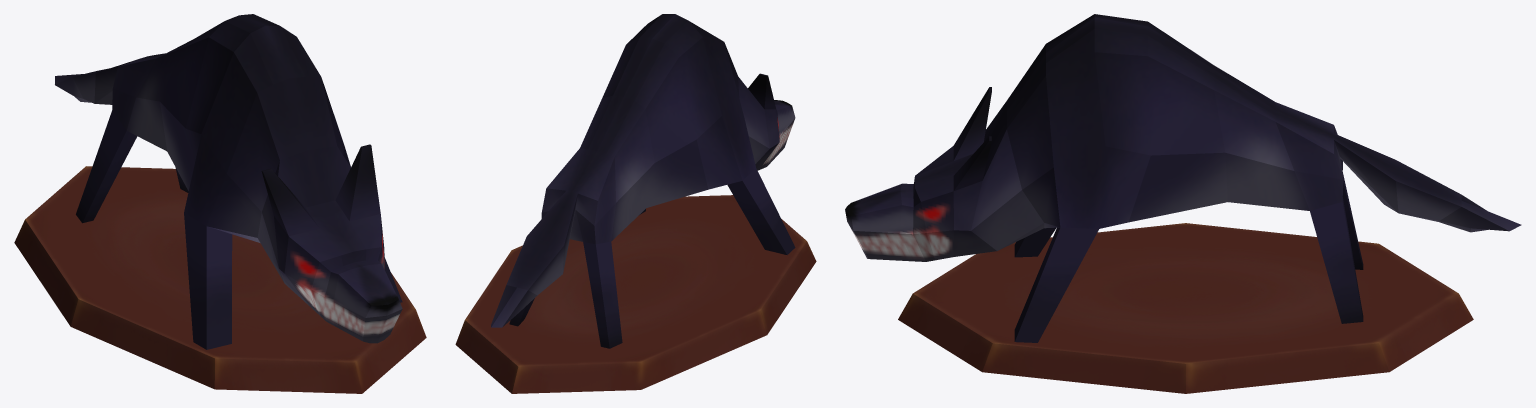
File: Asset_Enemy_Wolf.fbx
The picture shows the model from 3 angles, left to right: view 1: azimuth 30°, elevation 25°; view 2: azimuth 150°, elevation 25°; view 3: azimuth 270°, elevation 25°; orthographic projection. The views are drawn at different scales.
Visible parts, largest first — view 1: wolf_body, wolf_stand; view 2: wolf_body, wolf_stand; view 3: wolf_body, wolf_stand.
Boxes of the visible parts, left/top/right/bottom form: wolf_body: left=55, top=14, right=402, bottom=349; wolf_stand: left=14, top=166, right=426, bottom=393; wolf_body: left=491, top=14, right=795, bottom=348; wolf_stand: left=455, top=195, right=816, bottom=393; wolf_body: left=845, top=14, right=1521, bottom=342; wolf_stand: left=898, top=223, right=1473, bottom=393.
Size of the model in its own units: 31.55 by 29.91 by 60.74.
